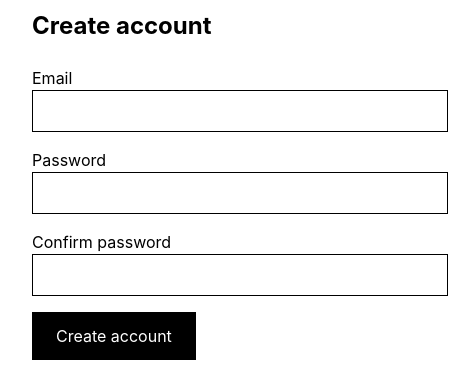
Scenario: account forms › sends registration password1/password2 and shows verification guidance only after success
Type "new@example.com" into the field labelled "Email".
click(240, 111); type("new@example.com")  # box x1=32 y1=90 x2=448 y2=132
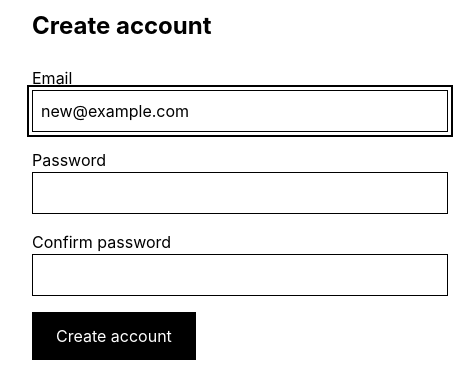
Type "long-password" into the password field labelled "Password".
click(240, 193); type("long-password")  # box x1=32 y1=172 x2=448 y2=214
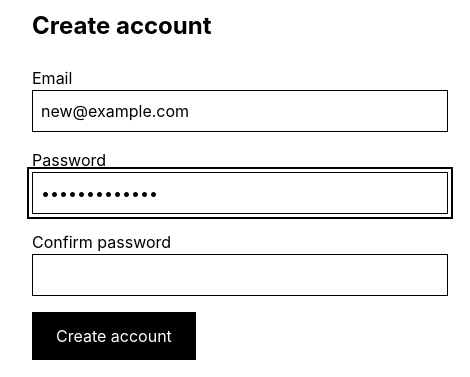
Type "long-password" into the password field labelled "Confirm password".
click(240, 275); type("long-password")  # box x1=32 y1=254 x2=448 y2=296
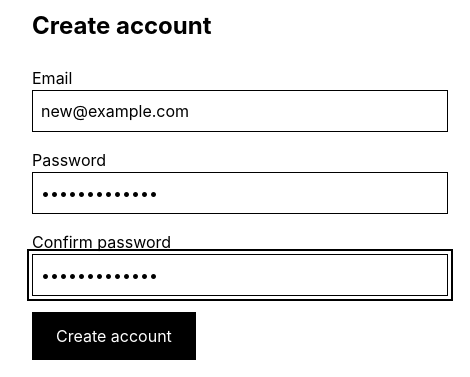
Click the button "Create account".
click(114, 336)  # box x1=32 y1=312 x2=196 y2=360
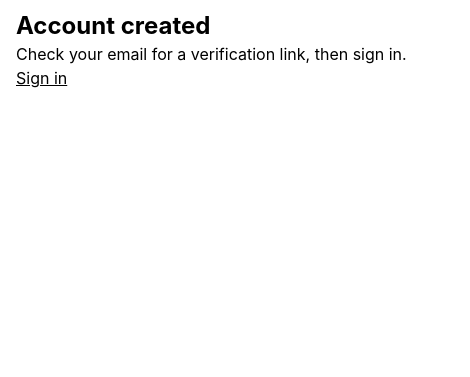
Check: the message shows "Check your email", box x1=16 y1=44 x2=407 y2=64
